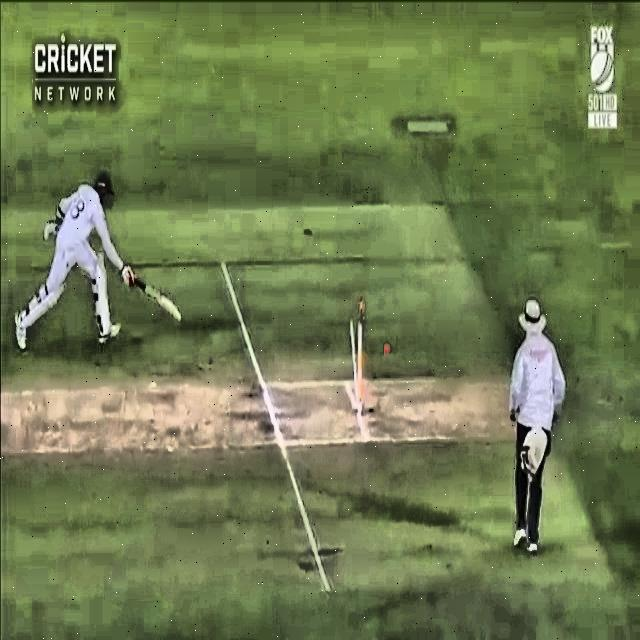Ball: (378, 337, 400, 369)
Bat: (107, 256, 185, 325)
Dis_Wicket: (320, 279, 378, 417)
Pitch_Line: (221, 261, 331, 592)
